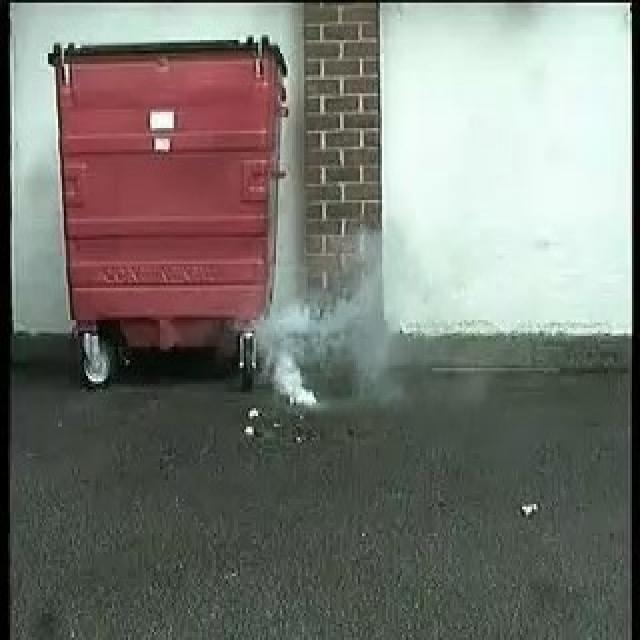smoke: (263, 298, 374, 410)
